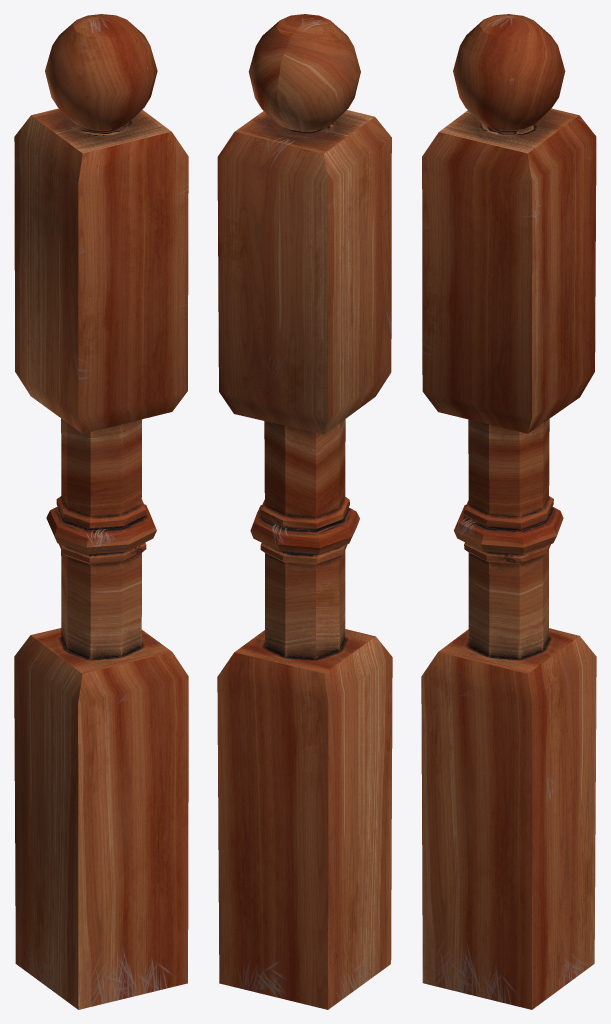
Rendered from StairPost1.fbx.
The picture shows the model from 3 angles, left to right: view 1: azimuth 30°, elevation 25°; view 2: azimuth 150°, elevation 25°; view 3: azimuth 330°, elevation 25°; orthographic projection.
Visible parts, largest first — view 1: StairPost1; view 2: StairPost1; view 3: StairPost1.
Boxes of the visible parts, bbox=[...] form: StairPost1: bbox=[14, 14, 188, 1009]; StairPost1: bbox=[217, 14, 392, 1009]; StairPost1: bbox=[421, 14, 596, 1009].
Bounding box in the file's own units: 12.49 × 103 × 12.49.
